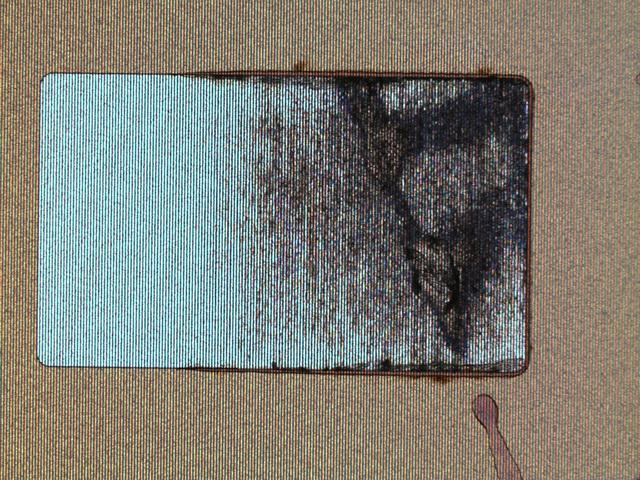SEZ BURNT: (157, 71, 536, 380)
